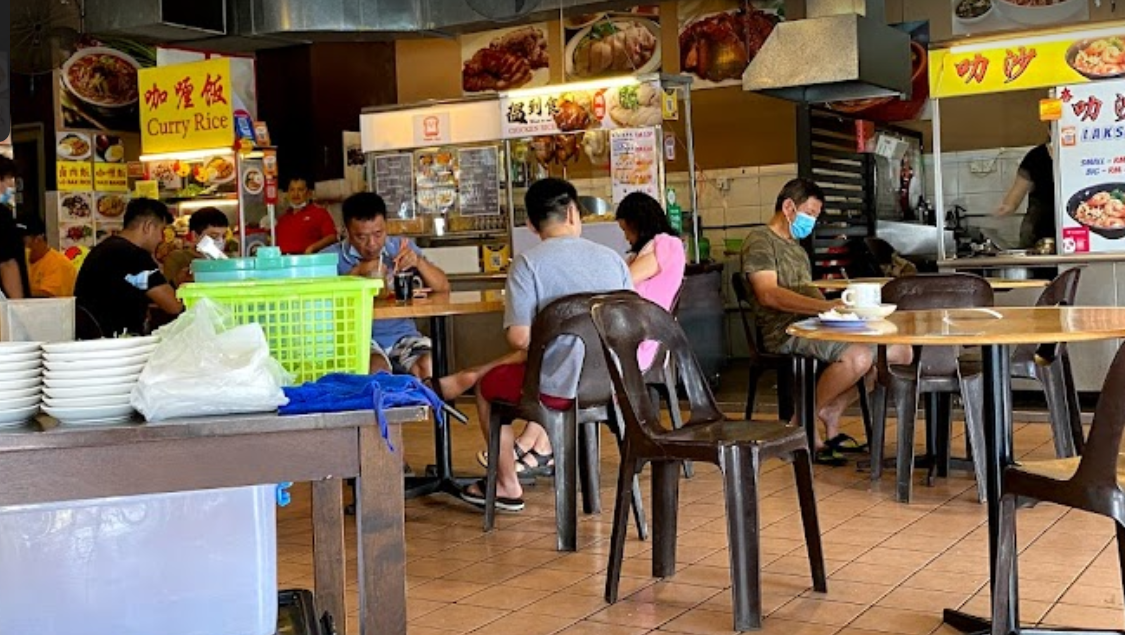sit: (748, 188, 894, 454), (488, 181, 604, 490), (298, 179, 443, 424), (600, 168, 701, 448), (73, 187, 175, 416)
